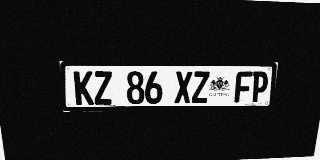6: (145, 71, 163, 104)
8: (126, 71, 144, 104)
F: (234, 71, 253, 103)
K: (73, 71, 94, 105)
P: (250, 71, 269, 102)
X: (174, 71, 192, 103)
Z: (93, 71, 113, 105), (191, 71, 210, 103)
